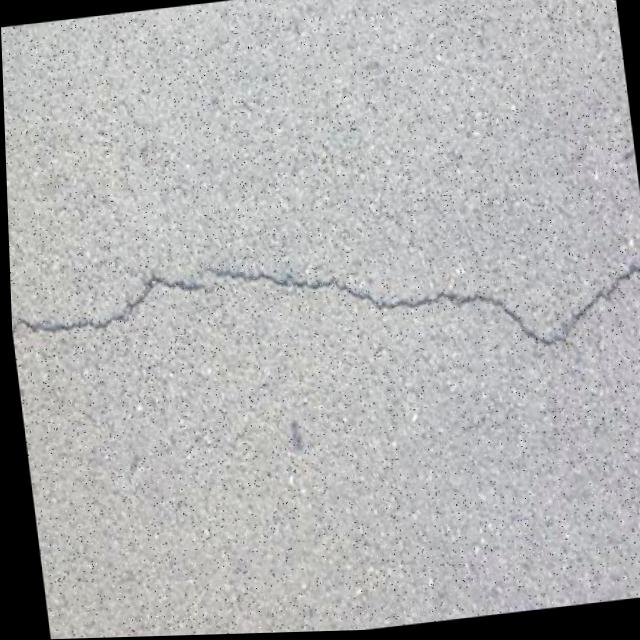Crack: (7, 213, 640, 424)
